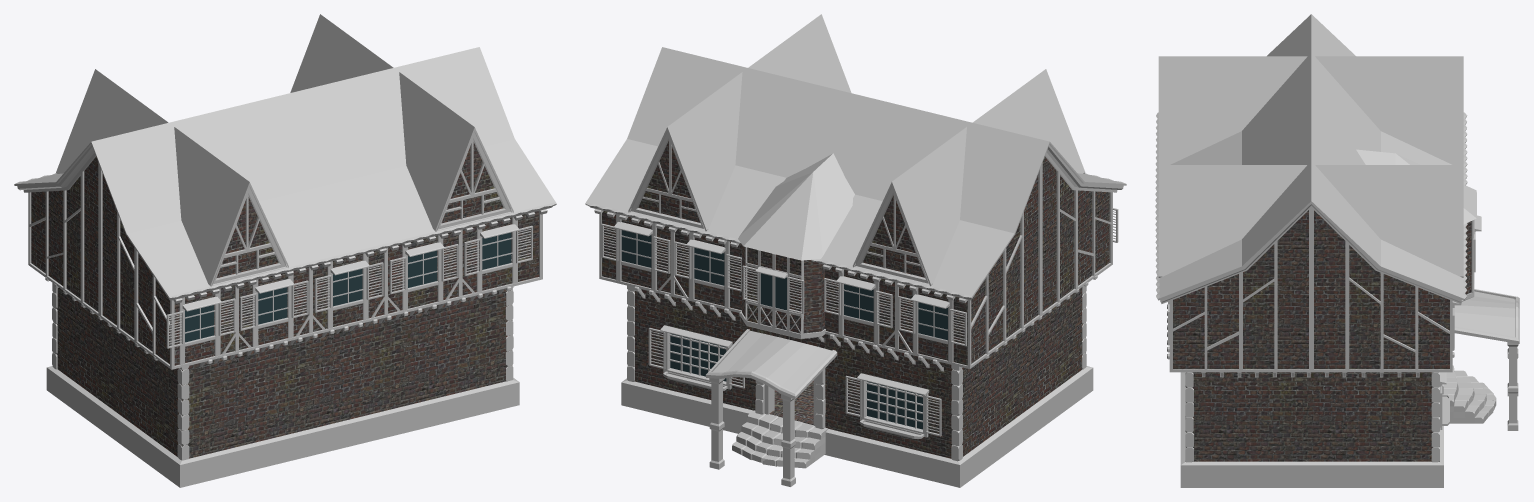
File: HousesChickago.fbx
3 views of the same model, side by side, from view 1: azimuth 30°, elevation 25°; view 2: azimuth 150°, elevation 25°; view 3: azimuth 270°, elevation 25° (orthographic).
Visible parts, largest first — view 1: Cube.524, Cube.544; view 2: Cube.524, Cube.544; view 3: Cube.524, Cube.544.
Boxes of the visible parts, box(x1,y1,x2,y2) form: Cube.524: box(14, 14, 556, 369); Cube.544: box(46, 283, 519, 487); Cube.524: box(585, 14, 1126, 371); Cube.544: box(621, 285, 1093, 487); Cube.524: box(1155, 14, 1481, 377); Cube.544: box(1180, 289, 1519, 487).
Size of the model in its own units: 1713 by 1295 by 1411.
